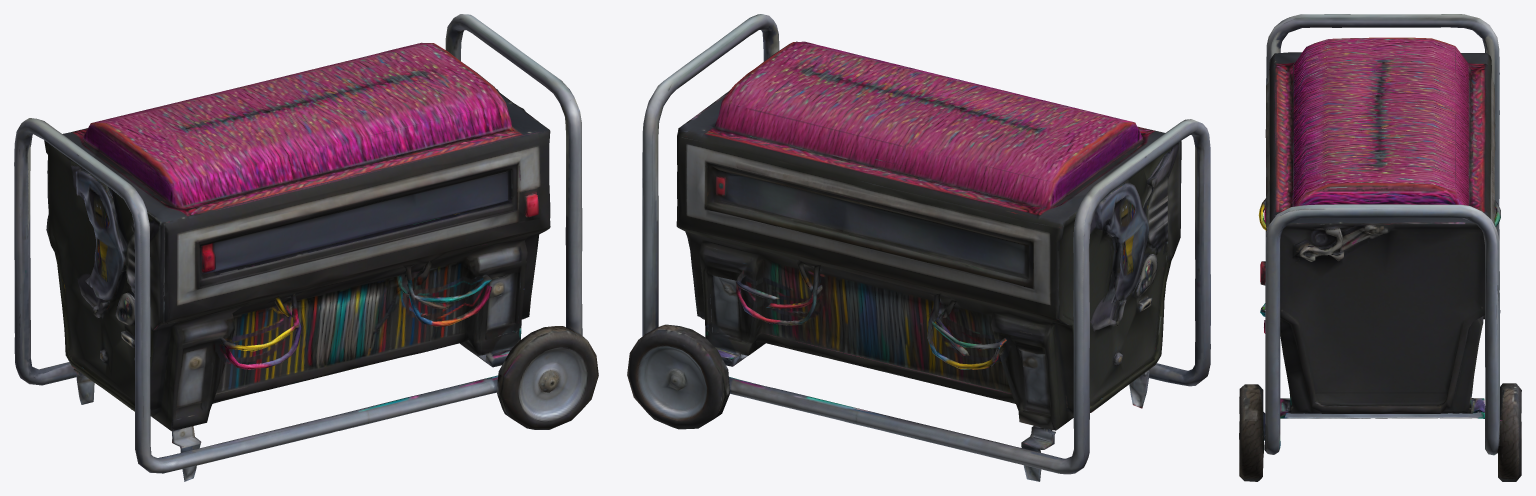
3 views of the same model, side by side, from view 1: azimuth 30°, elevation 25°; view 2: azimuth 150°, elevation 25°; view 3: azimuth 270°, elevation 25° (orthographic). The views are drawn at different scales.
Size of the model in its own units: 1.96 by 1.33 by 1.18.
1 material, 1 textured.
